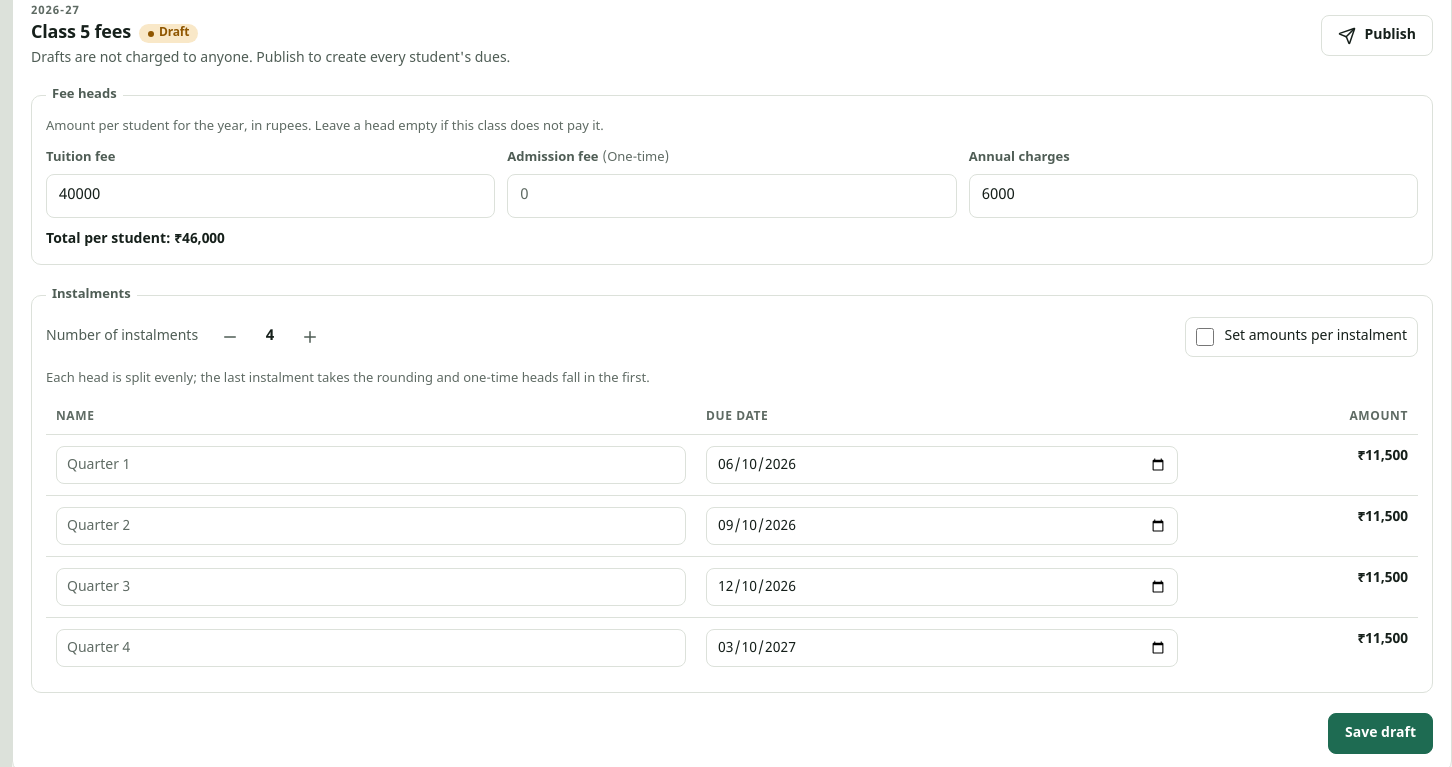
Test case: StructureEditor › shows when typed shares do not add up
Click the checkbox labelled "Set amounts per instalment": (1206, 337) [1196,328,1214,346]
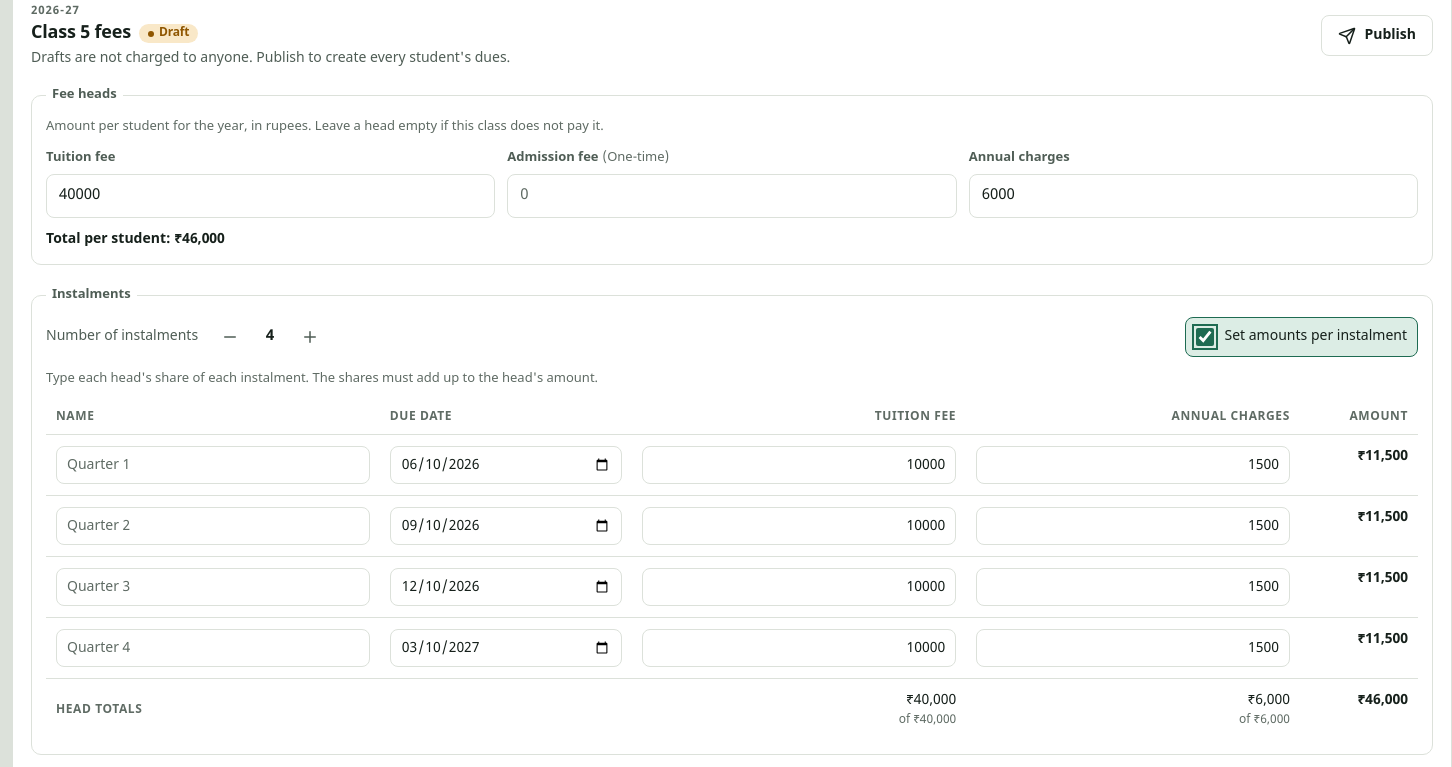
Expected: the field named "Tuition fee in instalment 1" holds "10000"
Replace the text in the field named "Tuition fee in instalment 1" with "12000": (799, 465) [642,446,956,484]
(page scrolled)
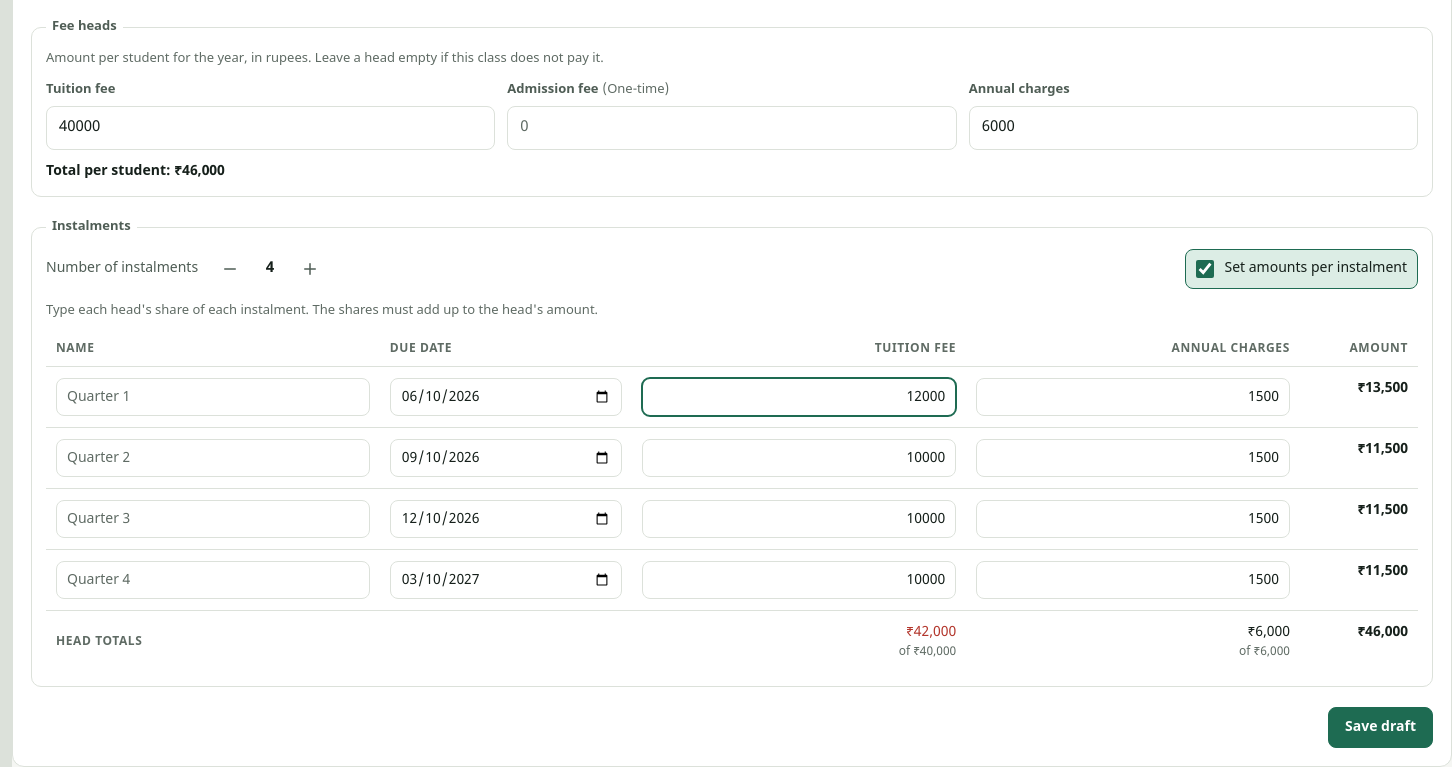
Click the button "Save draft": (1380, 728) [1328,707,1433,748]
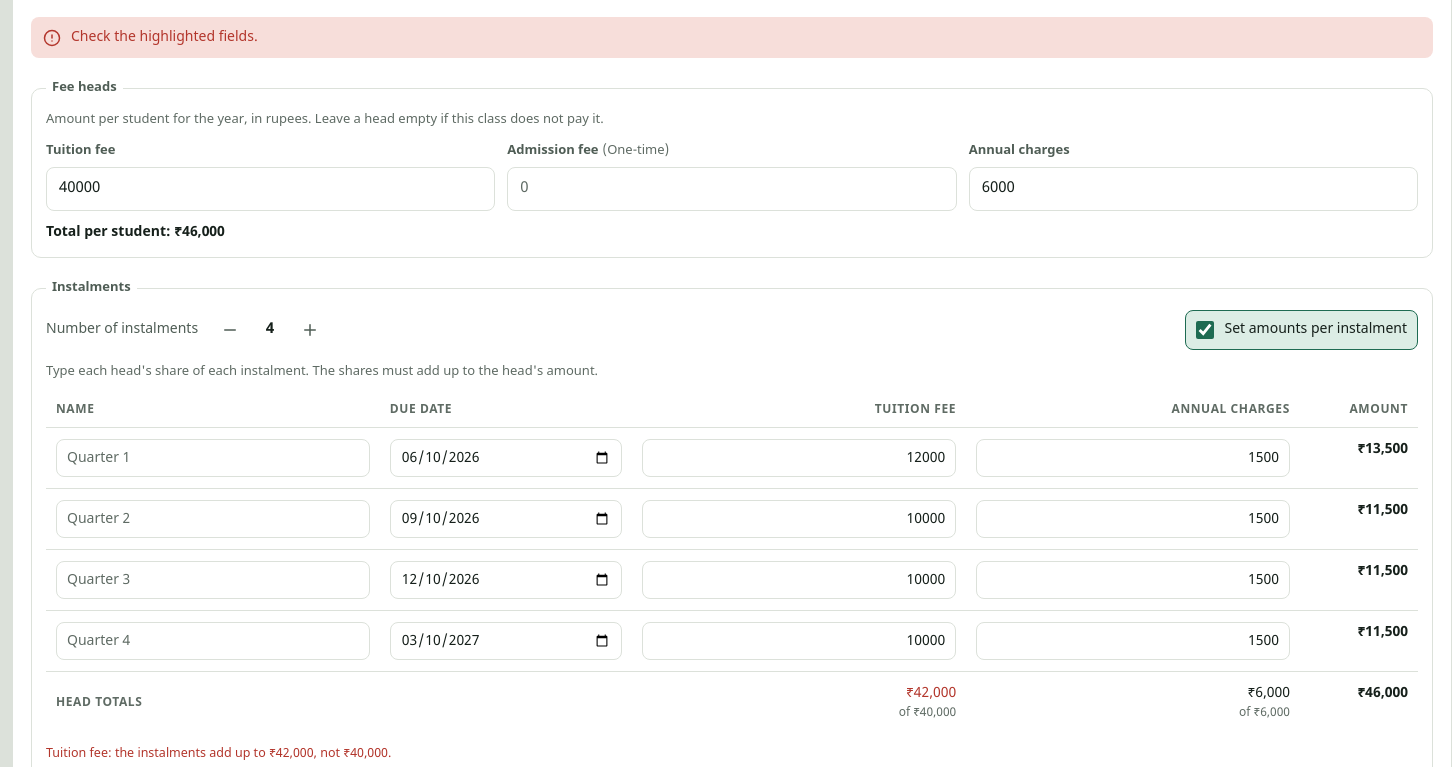
Expected: the text "Tuition fee: the instalments add up to ₹42,000, not ₹40,000." is shown, [46,746,391,762]
